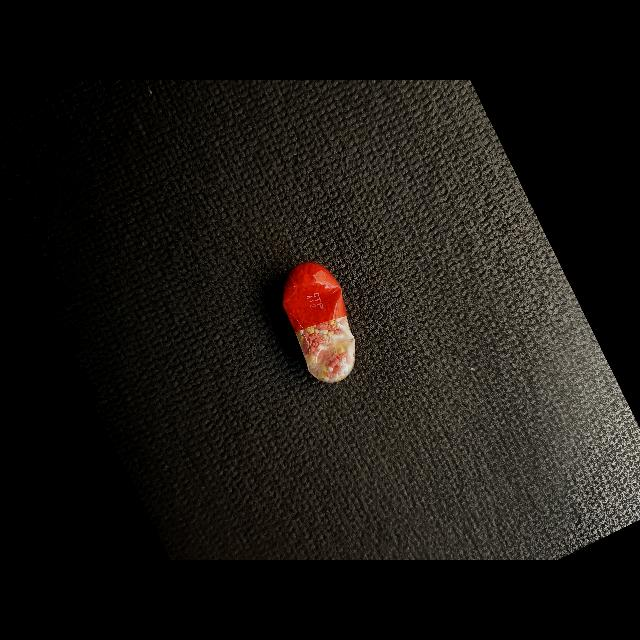Defective Capsule: (282, 262, 355, 383)
